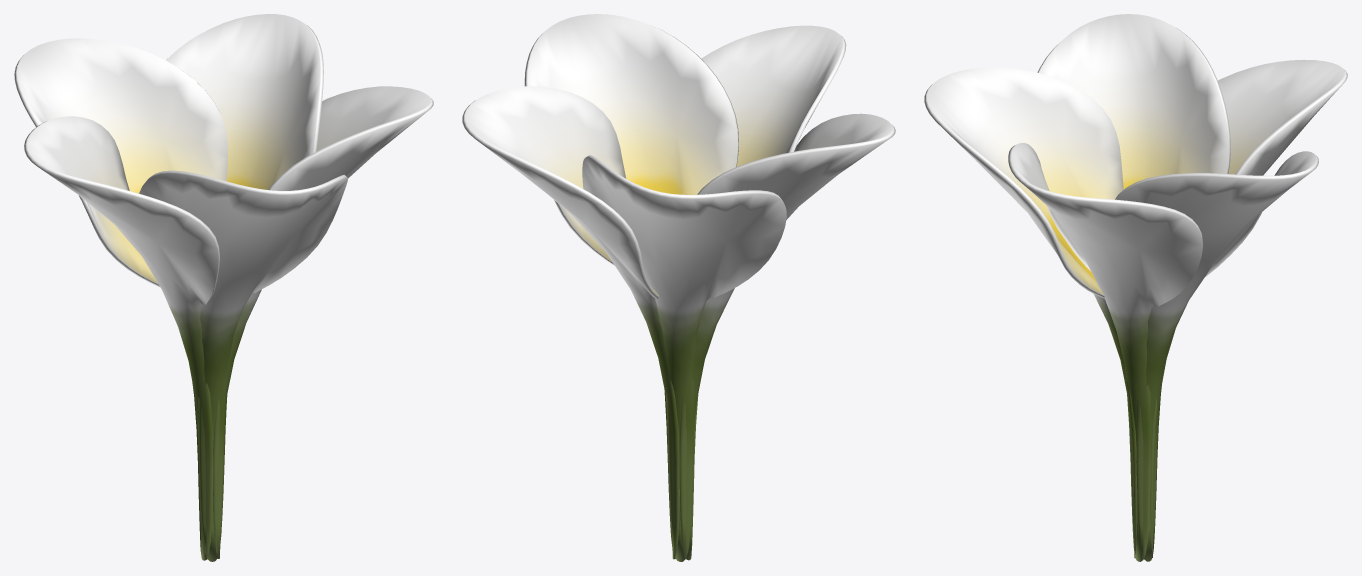
The model's file is yellow-white-flower.glb.
3 views of the same model, side by side, from view 1: azimuth 30°, elevation 25°; view 2: azimuth 150°, elevation 25°; view 3: azimuth 270°, elevation 25° (orthographic).
Parts seen in each view (by area): view 1: Circle; view 2: Circle; view 3: Circle.
Part boxes in pixels (box(x1,y1,x2,y2)): Circle: box(14, 14, 433, 561); Circle: box(462, 14, 895, 561); Circle: box(924, 14, 1347, 561).
Size of the model in its own units: 2.85 by 3.38 by 2.85.
1 material, 1 textured.
